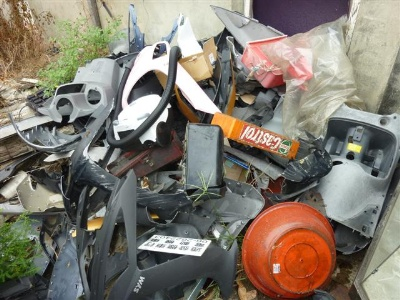bowl: (241, 200, 339, 300)
plastic_bag: (266, 17, 362, 140)
